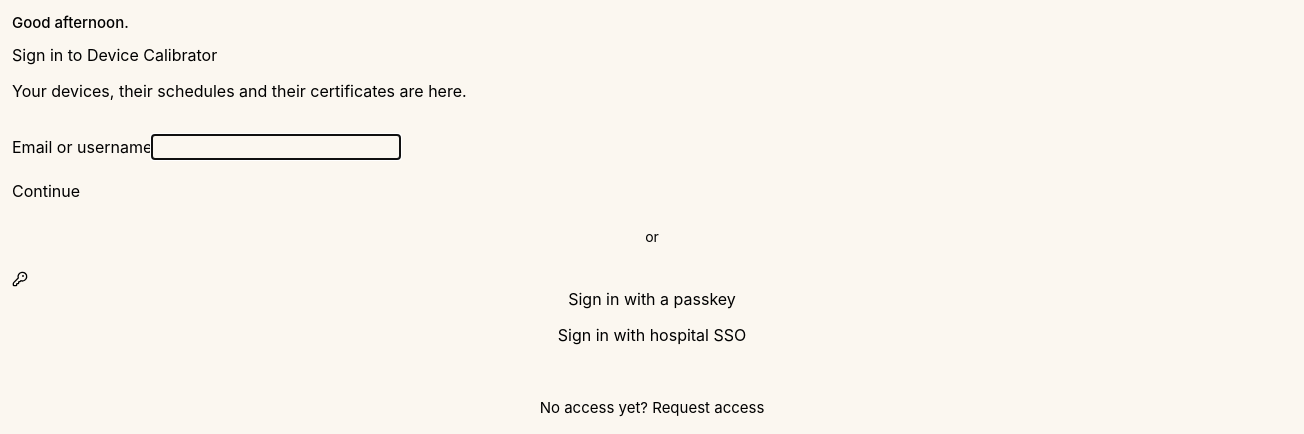
P10-04: identifier-first sign-in › A-288: a denied position shows the message and sends nothing more
Type "ada@rs.test" into the field labelled "Email or username" at (276, 146), box [152,134,400,158]
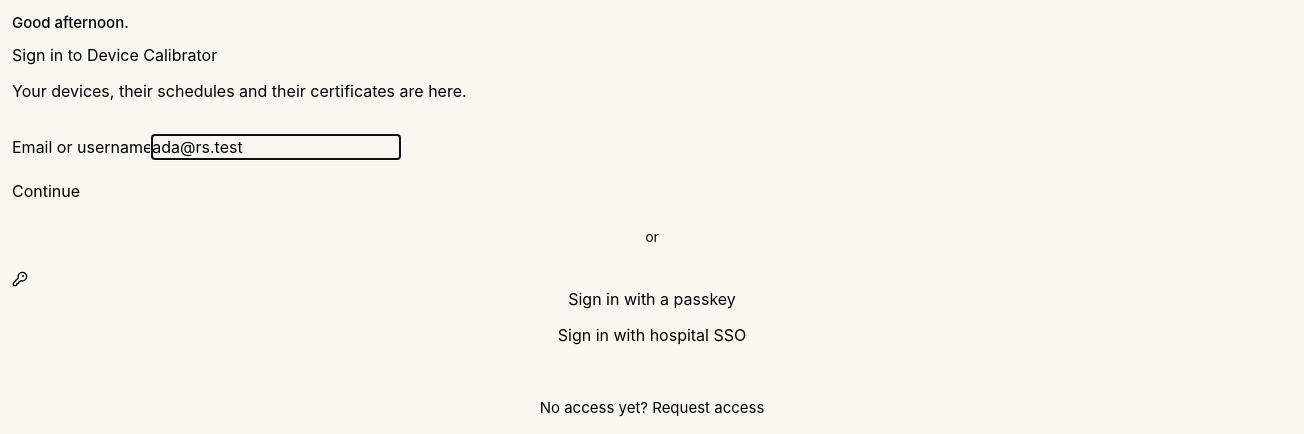
Click the button "Continue" at (46, 190), box [12,178,80,202]
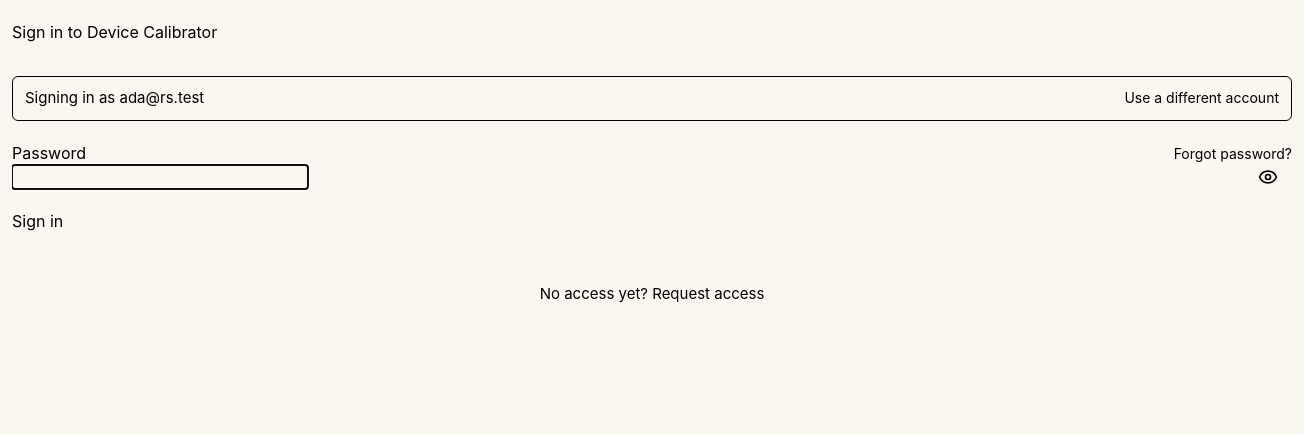
Type "Secret123" into the password field labelled "Password" at (160, 176), box [12,164,308,188]
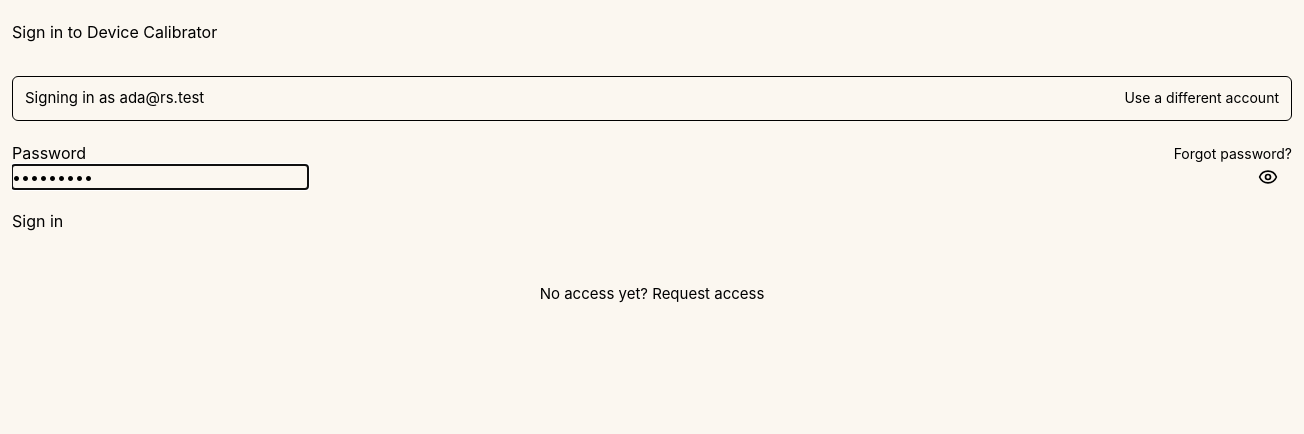
Click the button "Sign in" at (38, 220), box [12,208,63,232]
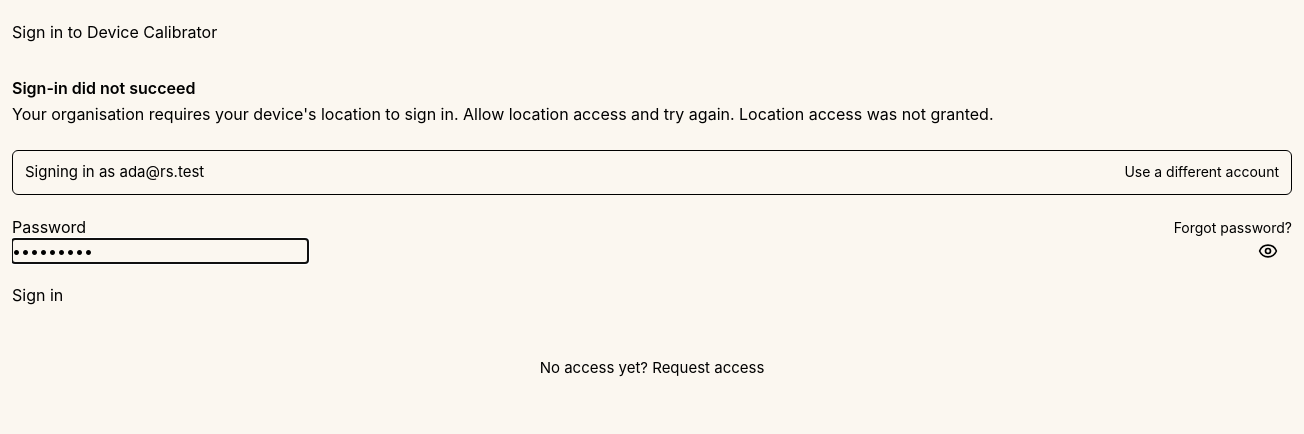
expect the message shows "Your organisation requires your device's location to sign in. Allow location access and try again.": met, box [12,104,994,124]
expect the message shows "Location access was not granted.": met, box [12,104,994,124]
